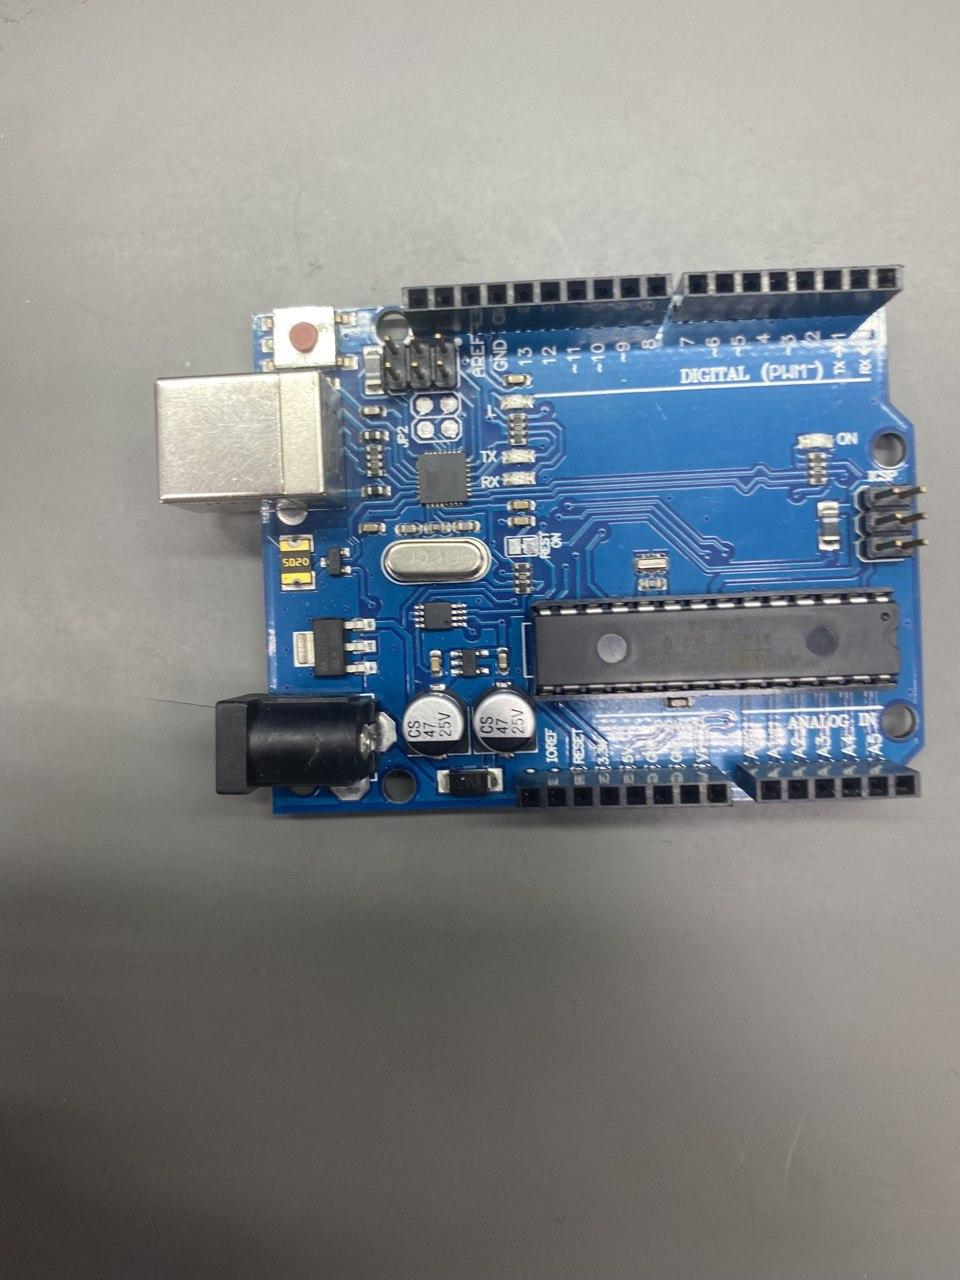ATmega328 chip: (532, 587, 902, 703)
Arduino board: (154, 264, 930, 815)
USB: (154, 369, 345, 514)
capacitor: (402, 692, 465, 756), (473, 689, 534, 752)
pins: (400, 273, 673, 337), (672, 265, 905, 322), (515, 767, 734, 811), (737, 760, 922, 803)
resistor: (509, 413, 527, 445), (808, 453, 826, 485), (366, 445, 383, 478), (514, 562, 531, 594)
